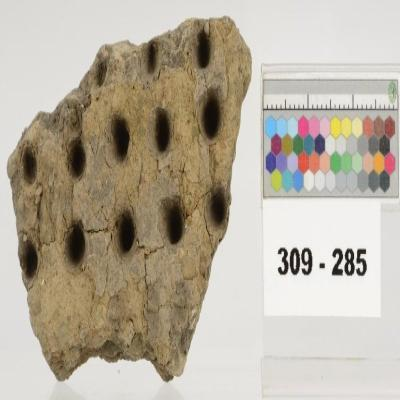archeology: (6, 16, 252, 384)
